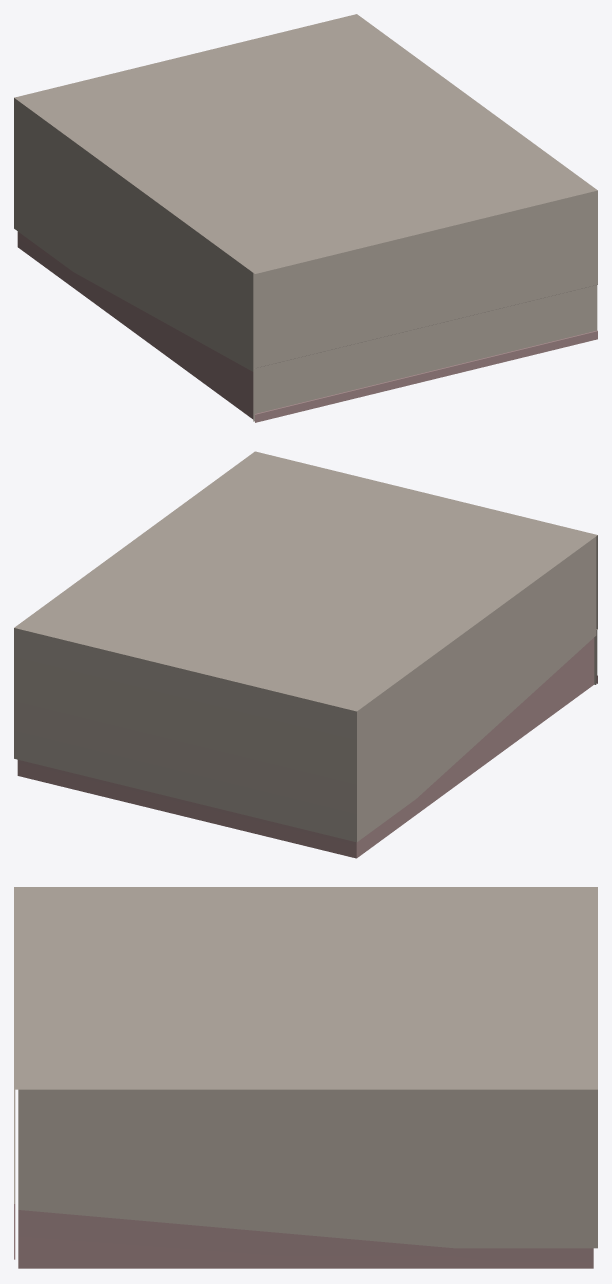
File: Wall.fbx
The picture shows the model from 3 angles, top to bottom: view 1: azimuth 30°, elevation 25°; view 2: azimuth 150°, elevation 25°; view 3: azimuth 270°, elevation 25°; orthographic projection. The views are drawn at different scales.
Visible parts, largest first — view 1: Wall; view 2: Wall; view 3: Wall.
Part boxes in pixels (left/top/right/bottom): Wall: left=14, top=14, right=597, bottom=422; Wall: left=14, top=451, right=597, bottom=858; Wall: left=14, top=887, right=597, bottom=1268.
Bounding box in the file's own units: 1595 × 662 × 1943.
